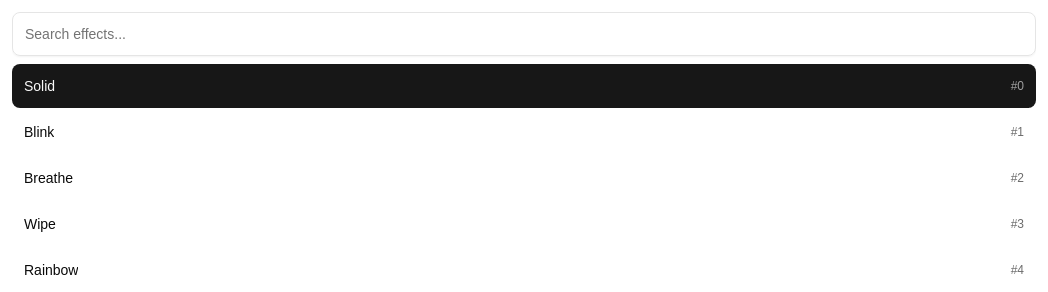
Test: EffectBrowser › search input filters effect list by name
Type "rain" into the field with placeholder "Search effects...". click: [524, 34]
box: 12,12 -> 1036,56
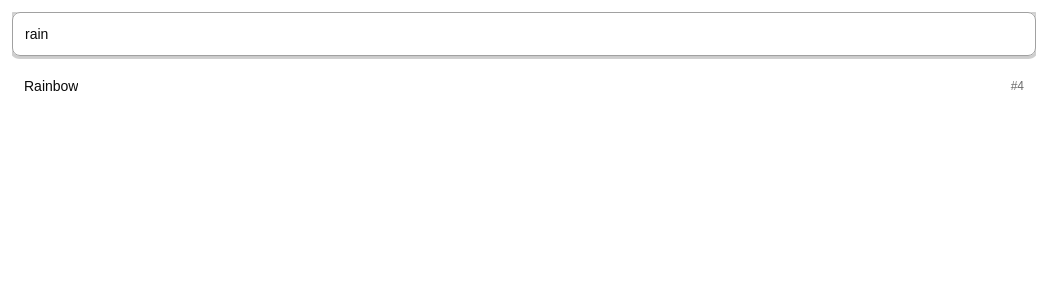
Expected: the text "Rainbow" is shown, 24,76 -> 78,96
Expected: the button "Solid" is gone
